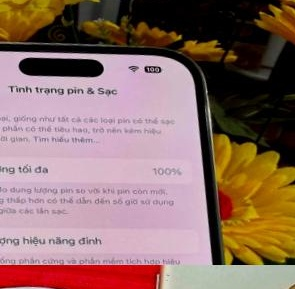scratch: (151, 265, 179, 289)
